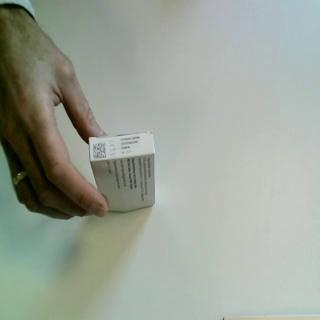oxycontin15mg: (88, 129, 158, 214)
